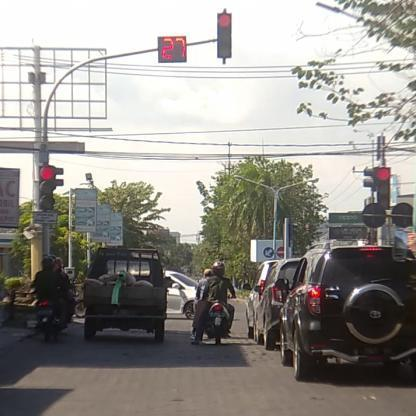red: (38, 164, 55, 214), (374, 164, 391, 212), (218, 10, 232, 59)
